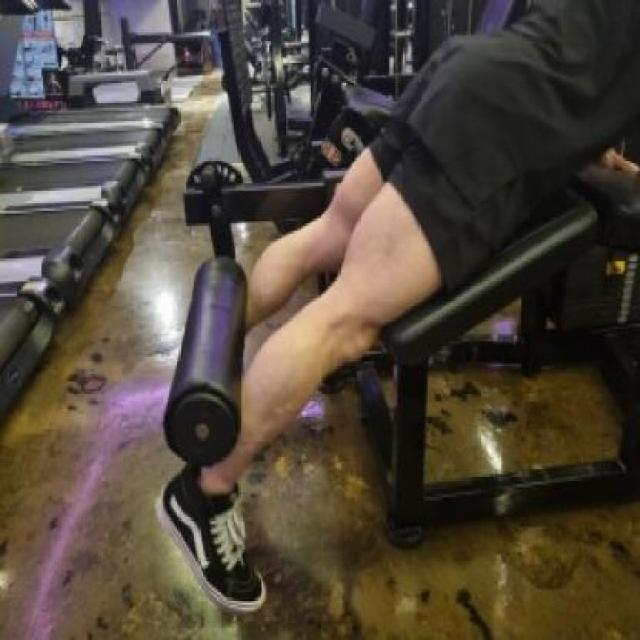reg curl machine: (152, 3, 638, 619)
